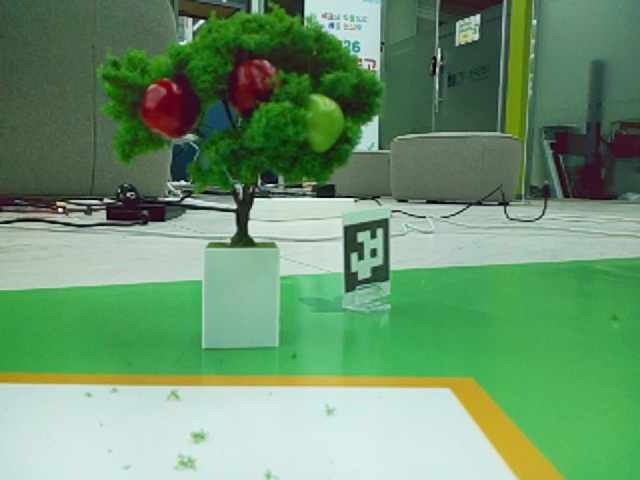apple: (141, 80, 182, 137), (235, 60, 270, 106)
